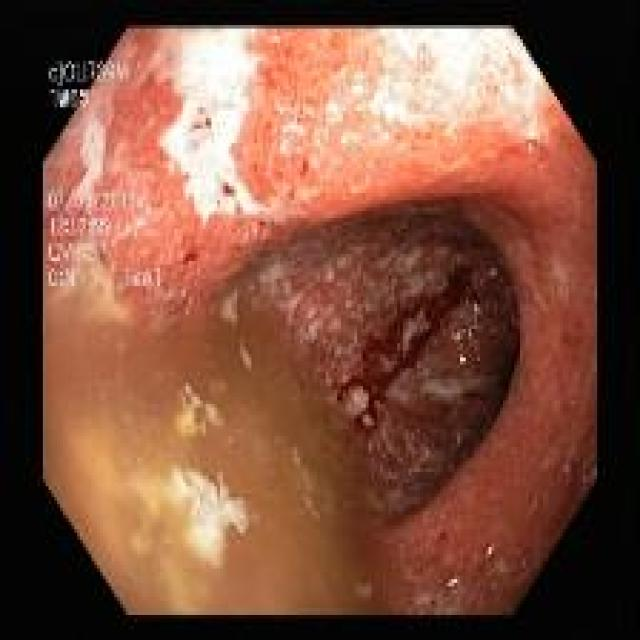ulcerative-colitis: (45, 28, 596, 613)
